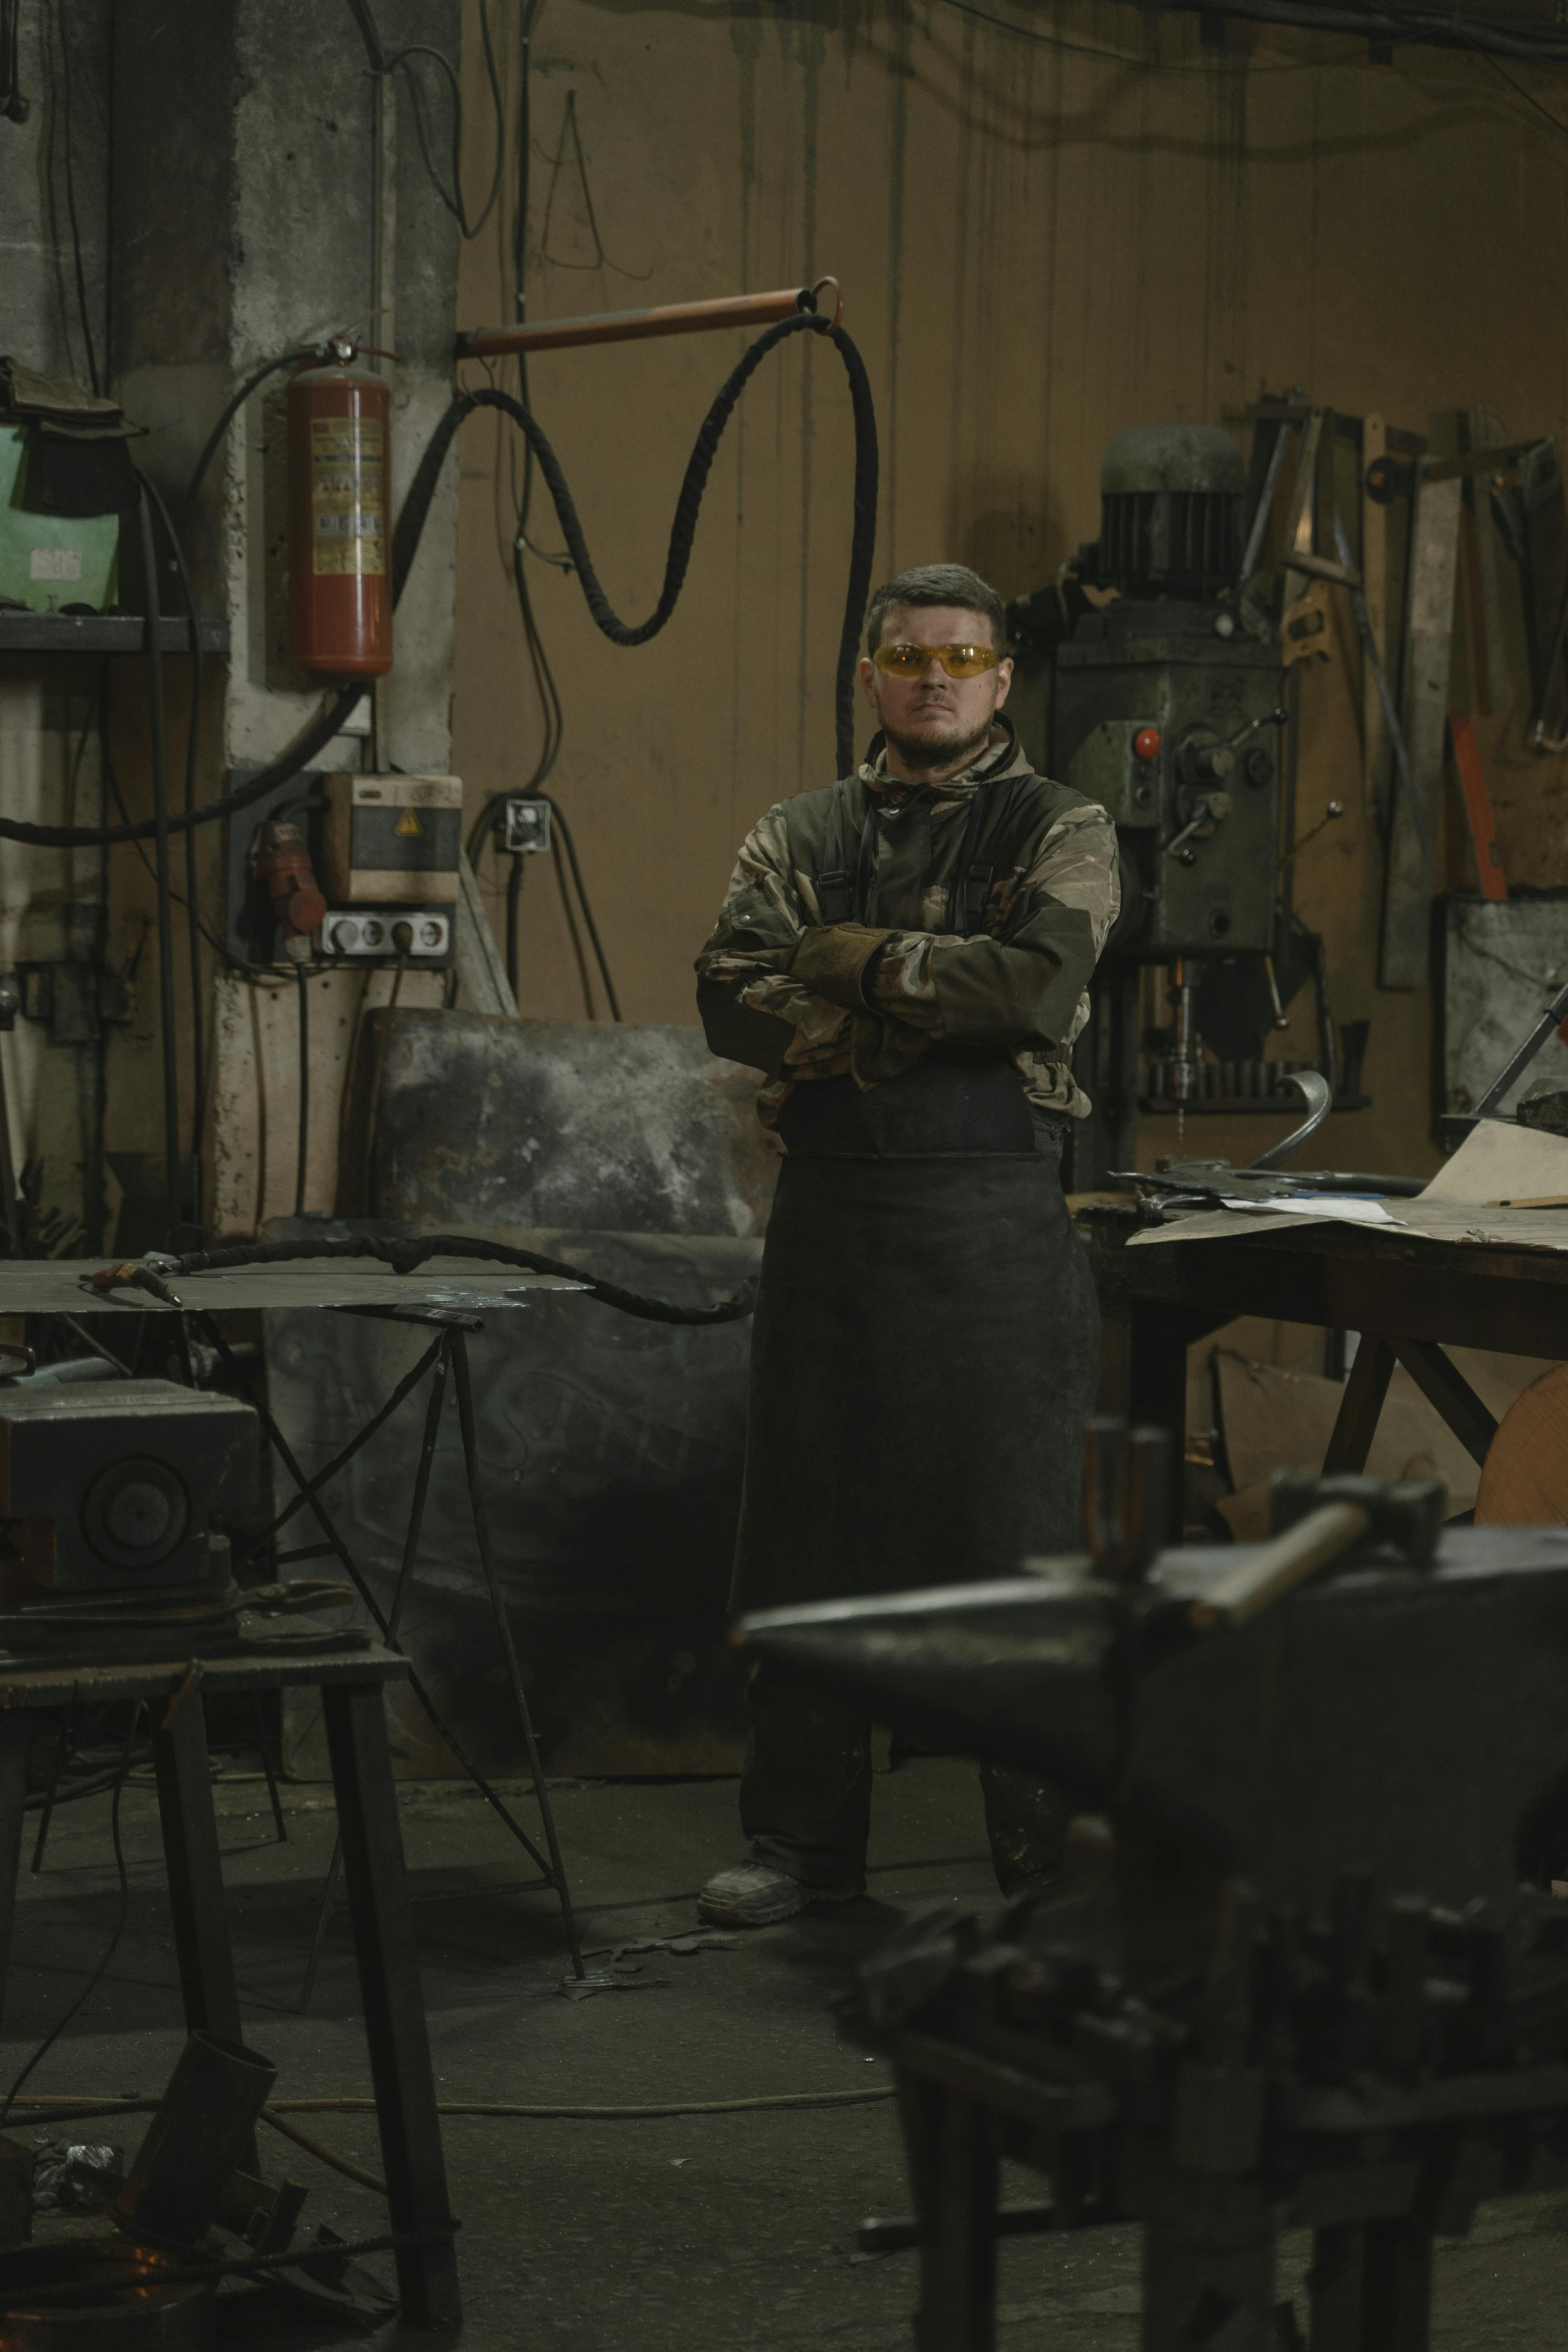extintor: (245, 296, 415, 714)
